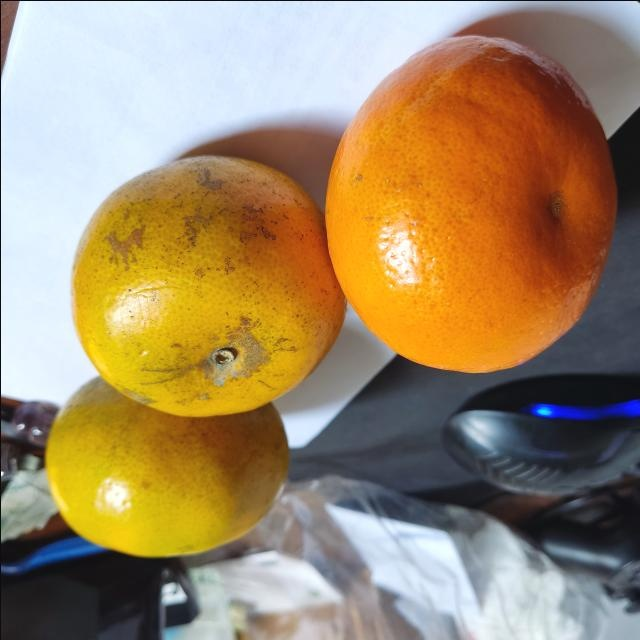agrume: (68, 151, 348, 419), (44, 366, 288, 558)
